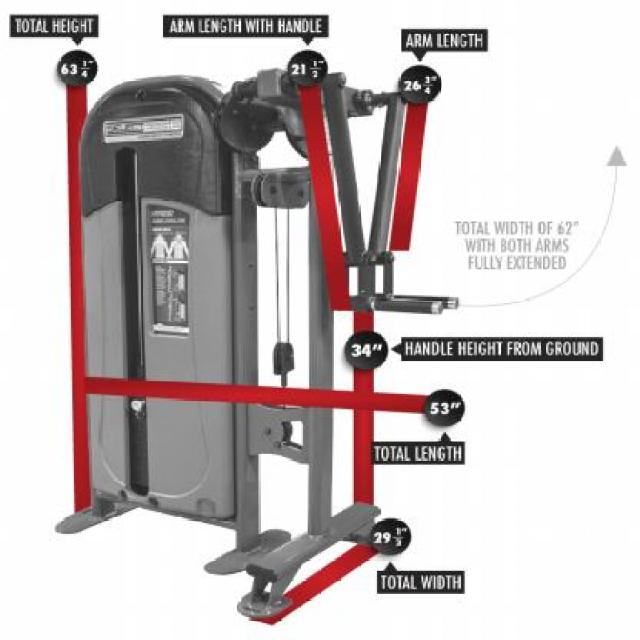lateral raises machine: (79, 77, 458, 569)
